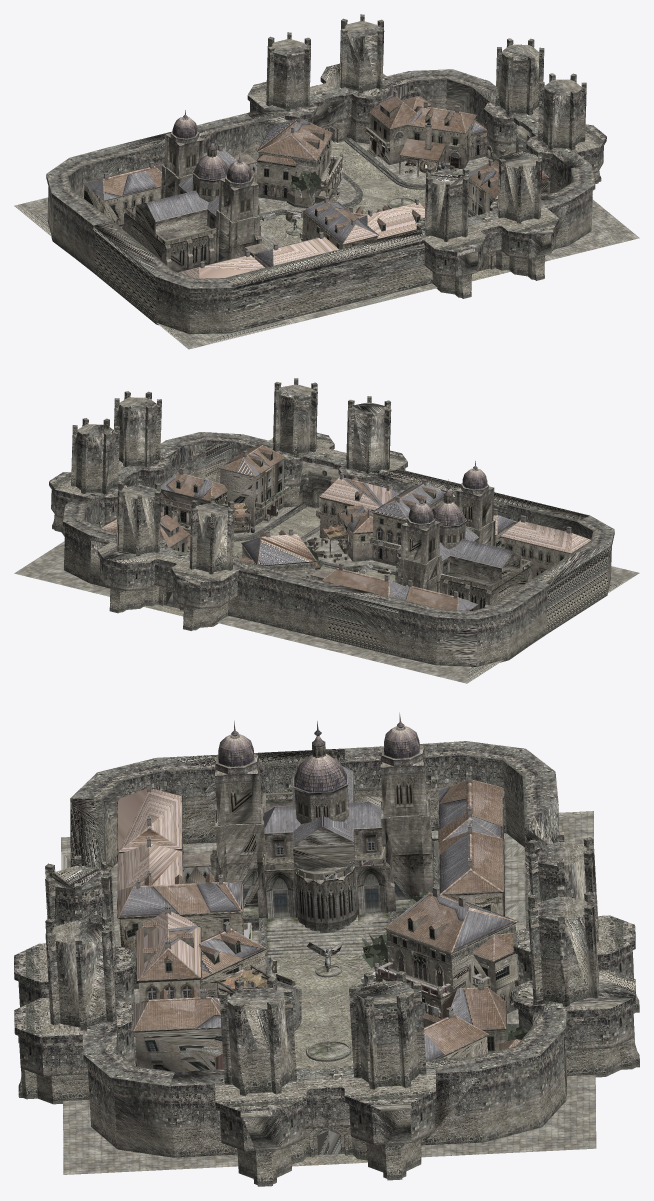
The model's file is oldtown.glb.
The picture shows the model from 3 angles, top to bottom: view 1: azimuth 30°, elevation 25°; view 2: azimuth 150°, elevation 25°; view 3: azimuth 270°, elevation 25°; orthographic projection. The views are drawn at different scales.
Size of the model in its own units: 2.24 by 0.6109 by 1.65.
15 materials, 14 textured.
